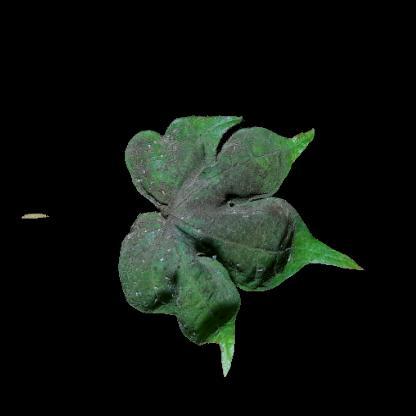sooty: (140, 156, 250, 290), (131, 122, 207, 174), (222, 137, 284, 193), (248, 218, 296, 276), (181, 288, 234, 340)
